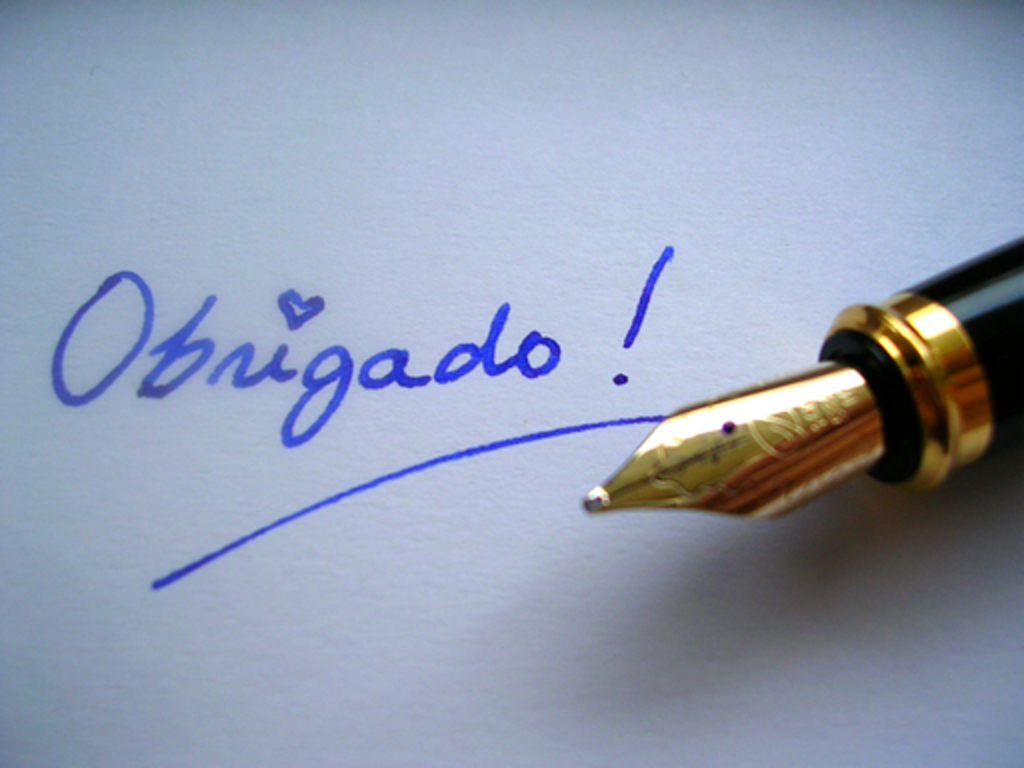Pen: (582, 236, 1022, 530)
